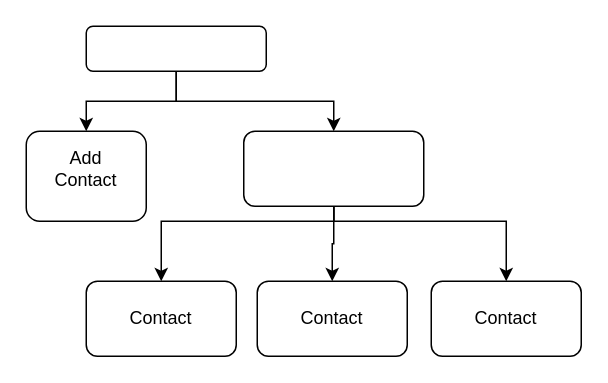
Some shapes in this 608 by 383 pixel diagram are drawn without their labels. Each missing label, with the centre of its shape:
"contact List" belongs at [333,168].
"Dashboard" belongs at [175,48].
